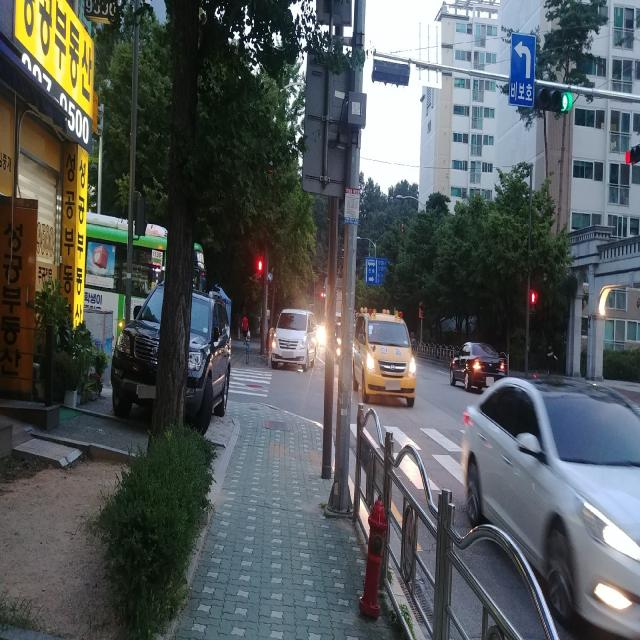빨간불: (530, 292, 537, 315), (257, 260, 263, 280)
횡단보도: (363, 426, 462, 489), (228, 368, 272, 397)
